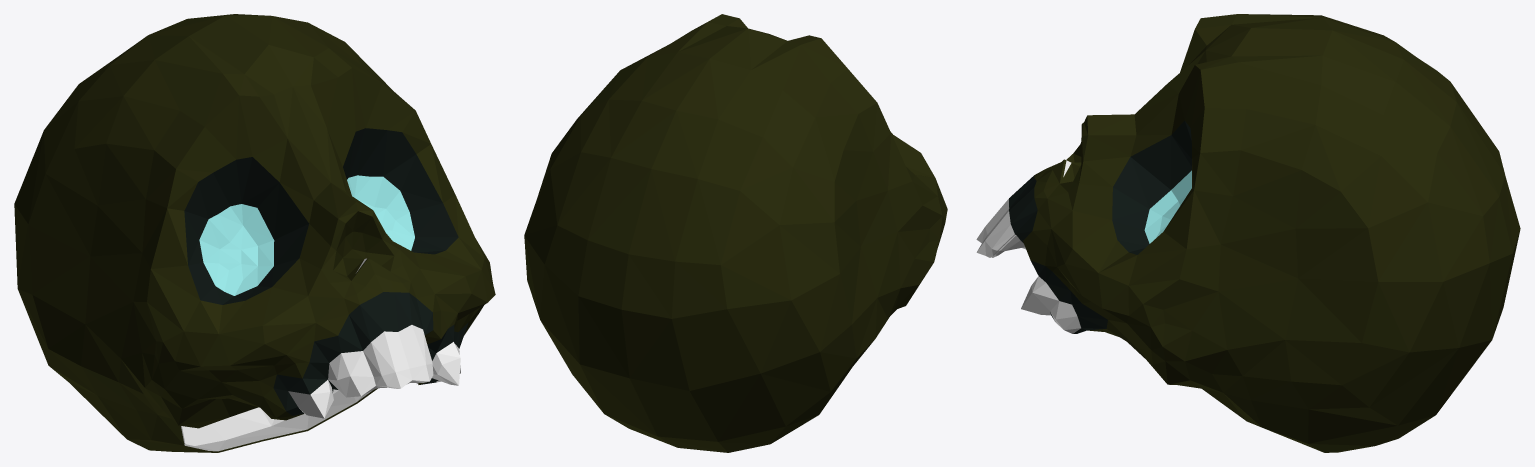
Rendered from Skull.fbx.
3 renders of one model, left to right at view 1: azimuth 30°, elevation 25°; view 2: azimuth 150°, elevation 25°; view 3: azimuth 270°, elevation 25°, orthographic. The views are drawn at different scales.
Visible parts, largest first — view 1: Eyes, InnerSkull; view 2: Eyes; view 3: Eyes.
Part boxes in pixels (box(x1,y1,x2,y2)): Eyes: box(14, 14, 495, 452); InnerSkull: box(181, 258, 418, 451); Eyes: box(524, 14, 947, 452); Eyes: box(976, 14, 1520, 452).
Bounding box in the file's own units: 159 × 184 × 226.
